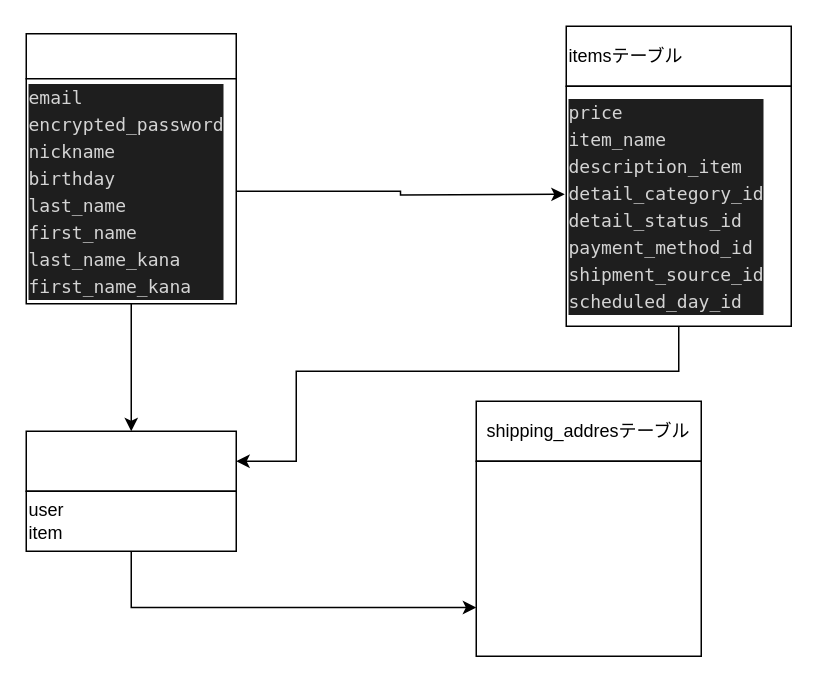
The diagram is 818 pixels wide and 683 high, and some of its shapes have lost their labels. Each missing label, with the centre of its shape:
"manegementsテーブル" belongs at pixel 130 460.
"postal_code prefecture_id municipalities address building_name phone_number" belongs at pixel 588 558.
"usersテーブル" belongs at pixel 130 55.
